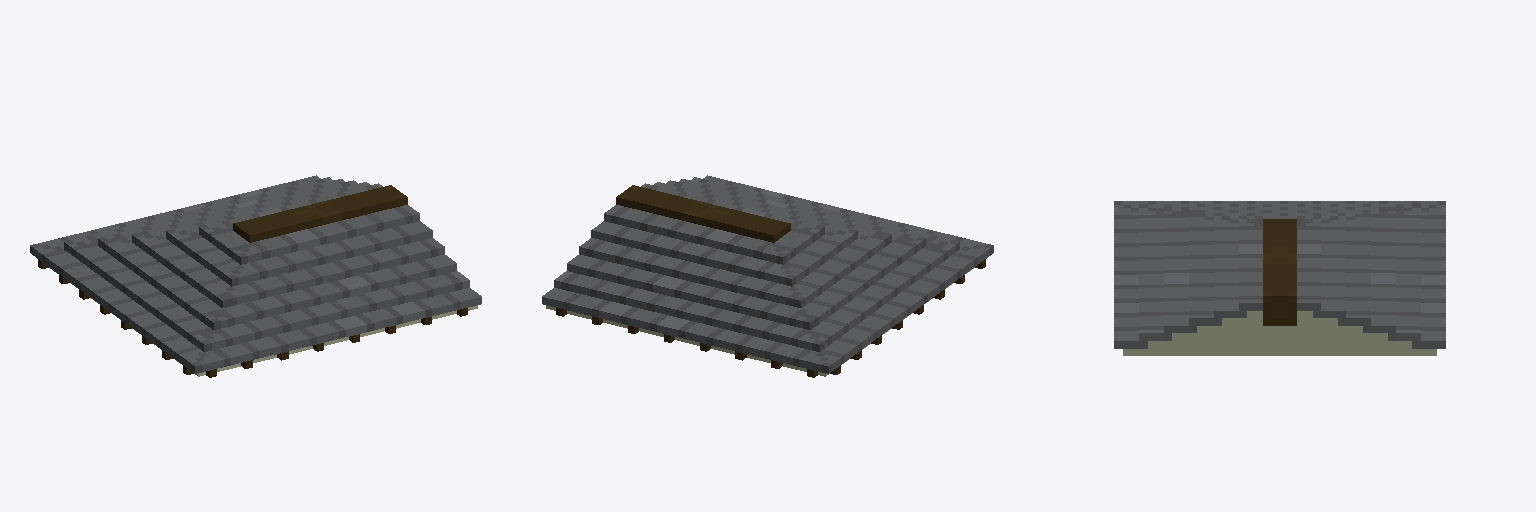
The picture shows the model from 3 angles: view 1: azimuth 30°, elevation 25°; view 2: azimuth 150°, elevation 25°; view 3: azimuth 270°, elevation 25°; orthographic projection.
Visible parts, largest first — view 1: object 1; view 2: object 1; view 3: object 1.
Boxes of the visible parts, <box> form: object 1: <box>30,175,481,377</box>; object 1: <box>542,175,993,377</box>; object 1: <box>1114,201,1445,355</box>.
Size of the model in its own units: 4 by 0.8 by 4.
1 materials, 1 textured.